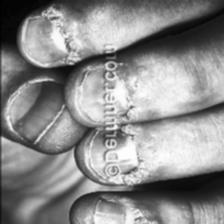Toxin: (118, 102, 152, 182), (40, 6, 82, 60), (119, 209, 156, 224)
